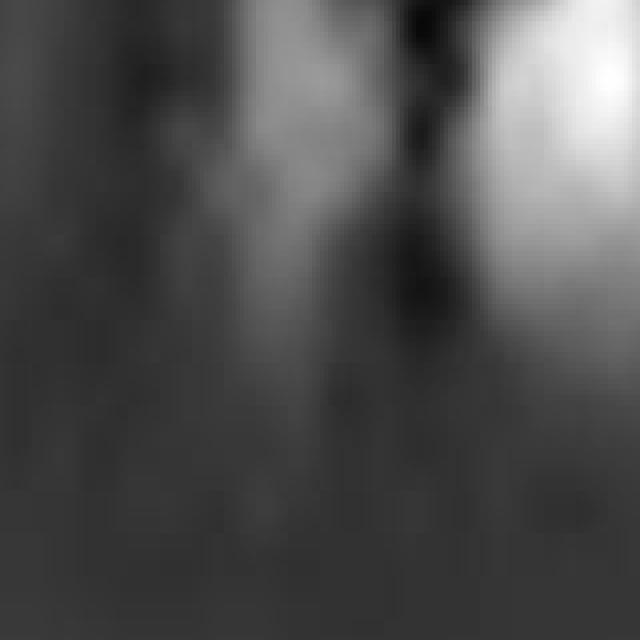person: (161, 1, 409, 385), (461, 1, 640, 465)
